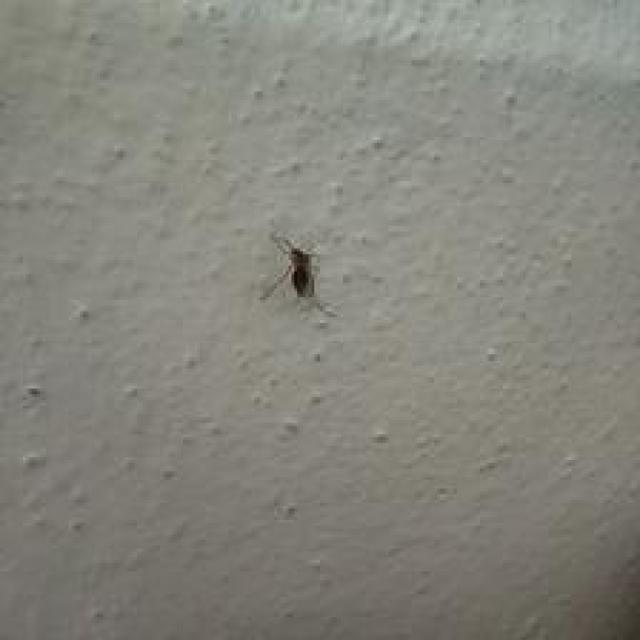Culex: (257, 229, 337, 317)
